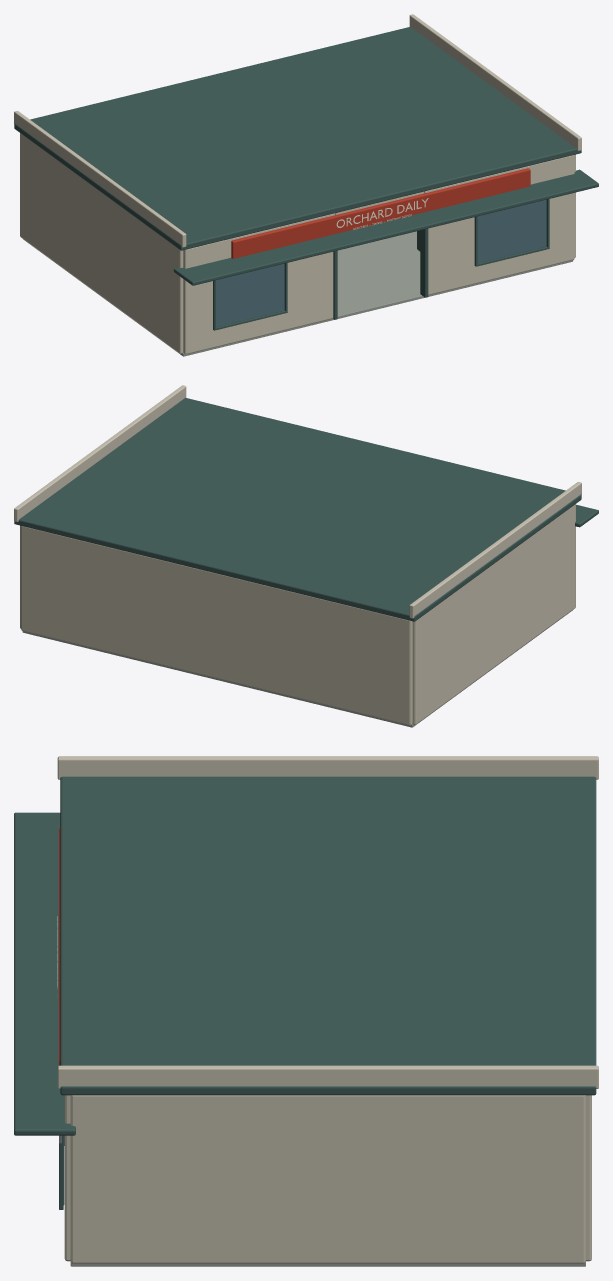
The model's file is interior_convenience_shop.glb.
3 renders of one model, top to bottom at view 1: azimuth 30°, elevation 25°; view 2: azimuth 150°, elevation 25°; view 3: azimuth 270°, elevation 25°, orthographic. The views are drawn at different scales.
Parts seen in each view (by area): view 1: interior_convenience_shop; view 2: interior_convenience_shop; view 3: interior_convenience_shop.
Boxes of the visible parts, left/top/right/bottom form: interior_convenience_shop: left=14, top=14, right=598, bottom=356; interior_convenience_shop: left=14, top=385, right=598, bottom=727; interior_convenience_shop: left=14, top=756, right=598, bottom=1266.
Size of the model in its own units: 14.6 by 4.32 by 11.35.
